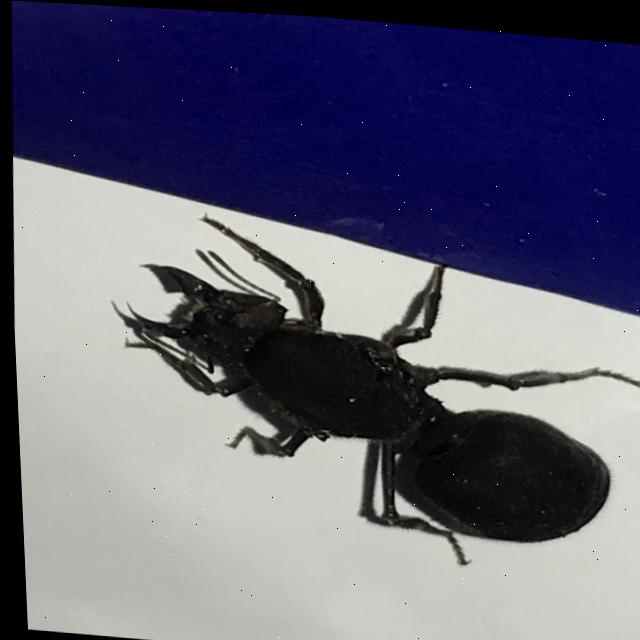Alive-Female-Dealate: (107, 201, 640, 574)
